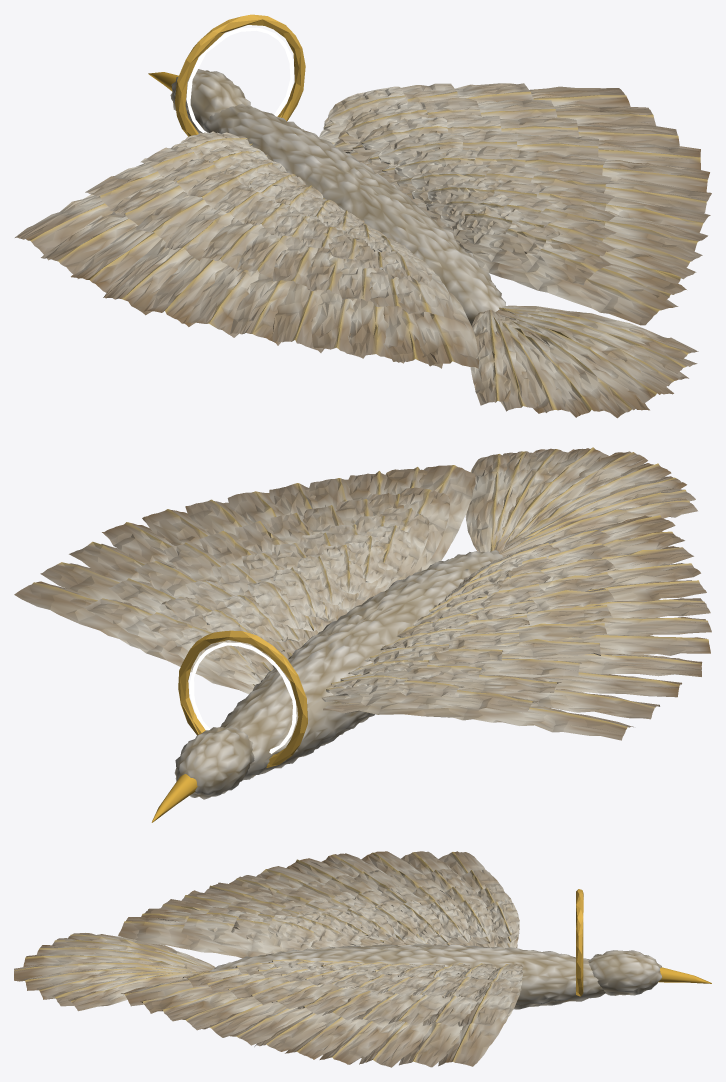
Rendered from seraphine_cruiser.glb.
3 views of the same model, one above another, from view 1: azimuth 30°, elevation 25°; view 2: azimuth 150°, elevation 25°; view 3: azimuth 270°, elevation 25° (orthographic). The views are drawn at different scales.
Parts seen in each view (by area): view 1: seraphine_cruiser.001; view 2: seraphine_cruiser.001; view 3: seraphine_cruiser.001.
Part boxes in pixels (left/top/right/bottom): seraphine_cruiser.001: left=15, top=14, right=711, bottom=418; seraphine_cruiser.001: left=14, top=447, right=711, bottom=822; seraphine_cruiser.001: left=14, top=851, right=711, bottom=1067.
Size of the model in its own units: 7.29 by 1.83 by 10.
